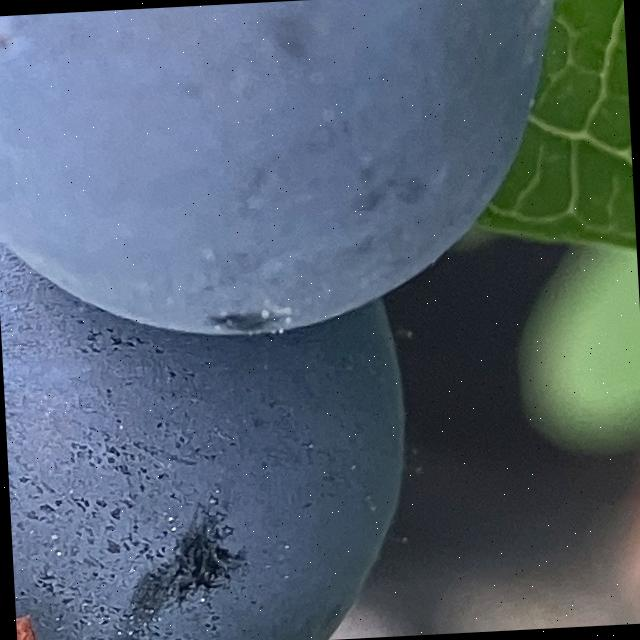Blueberries: (0, 0, 589, 350)
